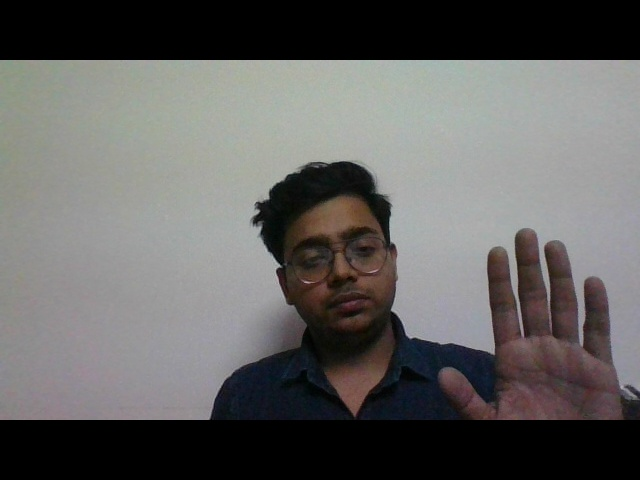Hello: (430, 214, 628, 425)
